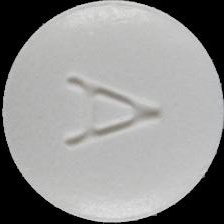60760-082: (0, 0, 224, 224)
